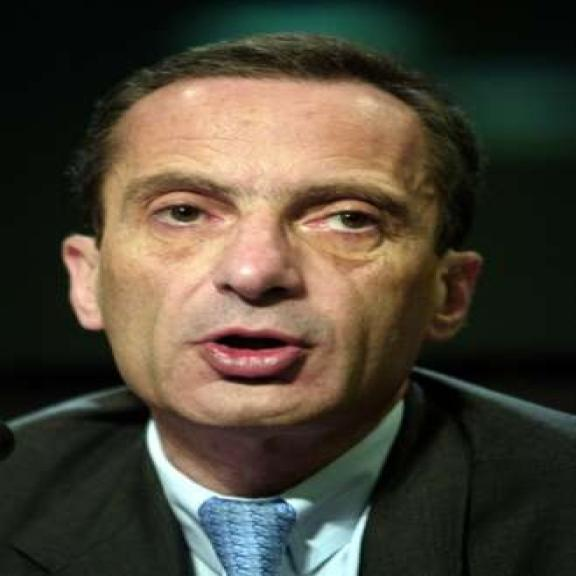face: (60, 79, 486, 431)
